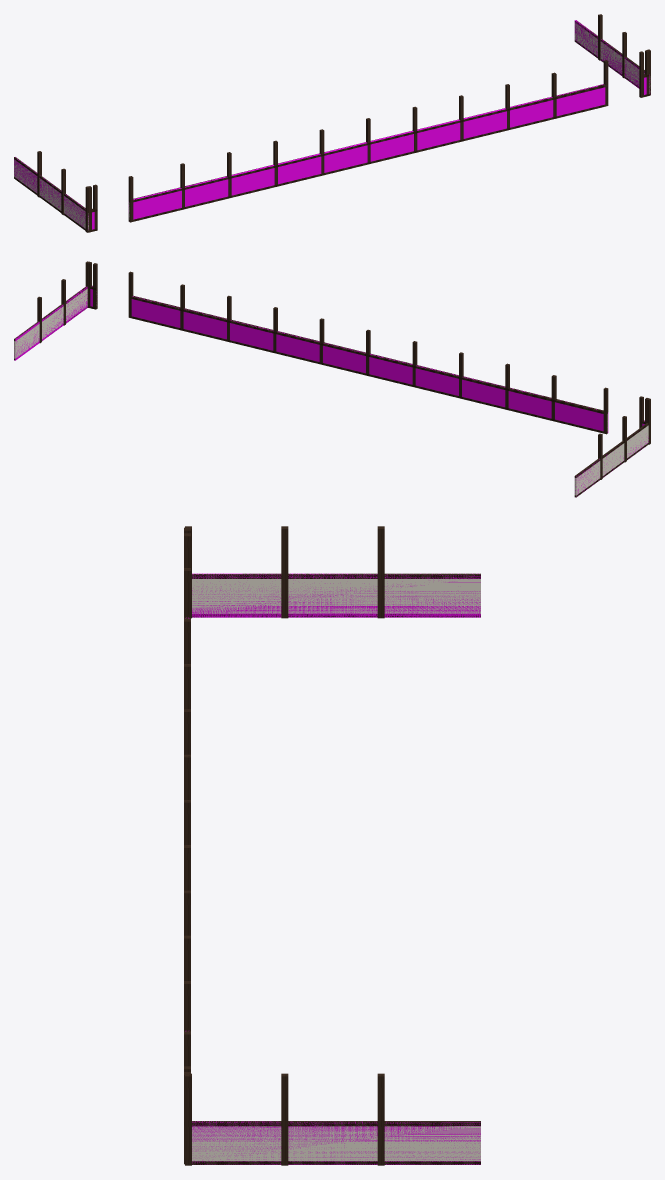
The model's file is pagar.glb.
3 views of the same model, one above another, from view 1: azimuth 30°, elevation 25°; view 2: azimuth 150°, elevation 25°; view 3: azimuth 270°, elevation 25° (orthographic). The views are drawn at different scales.
Visible parts, largest first — view 1: col_bal_1, pagar_kayu, pagar_sisi_kiri_panel, col_side_kanan, pagar_sisi_kanan_panel, col_side_kiri, pagar_sisi_kiri_kayu, pagar_sisi_kanan_kayu; view 2: col_bal_1, pagar_kayu, pagar_sisi_kiri_panel, pagar_sisi_kanan_panel, pagar_sisi_kiri_kayu, col_side_kanan, pagar_sisi_kanan_kayu; view 3: pagar_sisi_kanan_panel, pagar_sisi_kiri_panel, col_side_kiri, col_side_kanan, pagar_sisi_kanan_kayu, pagar_kayu, pagar_sisi_kiri_kayu.
Part boxes in pixels (left/top/right/bottom): col_bal_1: left=128, top=84, right=605, bottom=219; pagar_kayu: left=88, top=50, right=649, bottom=232; pagar_sisi_kiri_panel: left=14, top=160, right=88, bottom=230; col_side_kanan: left=574, top=20, right=649, bottom=88; pagar_sisi_kanan_panel: left=574, top=23, right=650, bottom=93; col_side_kiri: left=14, top=157, right=88, bottom=229; pagar_sisi_kiri_kayu: left=14, top=151, right=88, bottom=232; pagar_sisi_kanan_kayu: left=574, top=14, right=650, bottom=95; col_bal_1: left=131, top=296, right=608, bottom=432; pagar_kayu: left=87, top=261, right=649, bottom=434; pagar_sisi_kiri_panel: left=574, top=425, right=648, bottom=495; pagar_sisi_kanan_panel: left=14, top=289, right=87, bottom=358; pagar_sisi_kiri_kayu: left=574, top=398, right=650, bottom=497; col_side_kanan: left=14, top=286, right=87, bottom=360; pagar_sisi_kanan_kayu: left=14, top=261, right=89, bottom=360; pagar_sisi_kanan_panel: left=192, top=1126, right=480, bottom=1161; pagar_sisi_kiri_panel: left=192, top=579, right=480, bottom=613; col_side_kiri: left=192, top=573, right=480, bottom=617; col_side_kanan: left=192, top=1121, right=480, bottom=1164; pagar_sisi_kanan_kayu: left=185, top=1073, right=480, bottom=1165; pagar_kayu: left=184, top=527, right=190, bottom=1164; pagar_sisi_kiri_kayu: left=185, top=526, right=480, bottom=618.
Bounding box in the file's own units: 30.36 × 2.3 × 6.92.
Materials: 3 (1 with a texture image).
